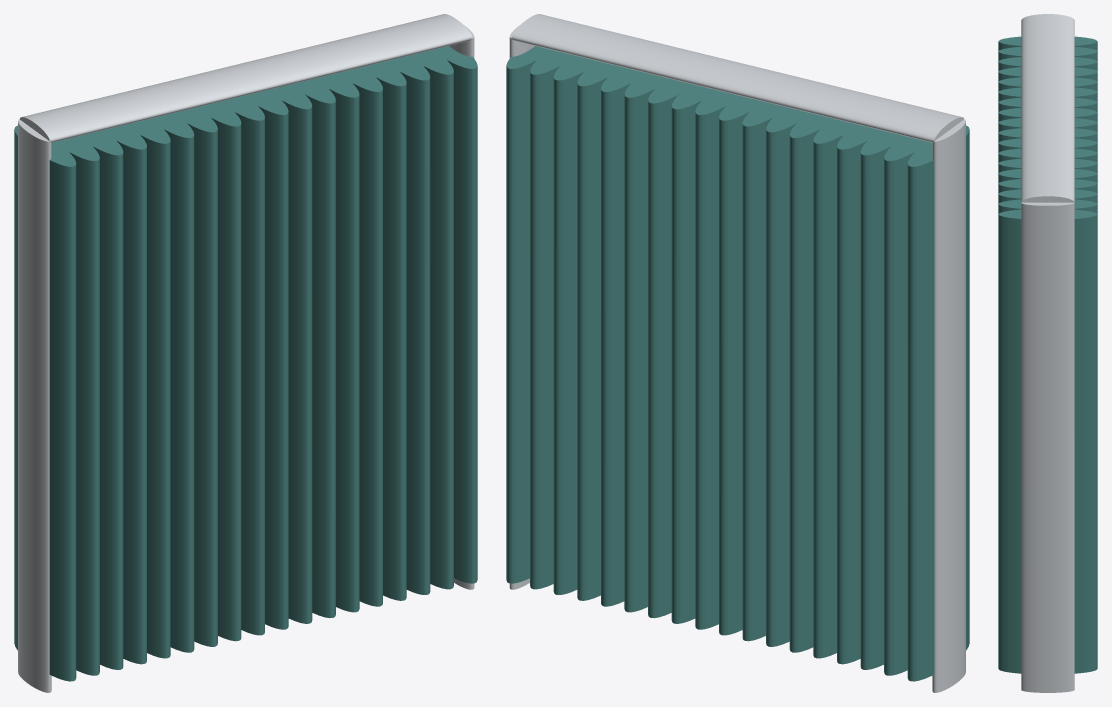
File: wp-rideau-sur-portique.glb
3 renders of one model, left to right at view 1: azimuth 30°, elevation 25°; view 2: azimuth 150°, elevation 25°; view 3: azimuth 270°, elevation 25°, orthographic. The views are drawn at different scales.
Parts seen in each view (by area): view 1: wp-rideau-sur-portique; view 2: wp-rideau-sur-portique; view 3: wp-rideau-sur-portique.
Part boxes in pixels (x1,y1,x2,y2): wp-rideau-sur-portique: (14,14,477,692); wp-rideau-sur-portique: (506,14,969,692); wp-rideau-sur-portique: (998,14,1097,692).
Size of the model in its own units: 1.8 by 2.2 by 0.4.
